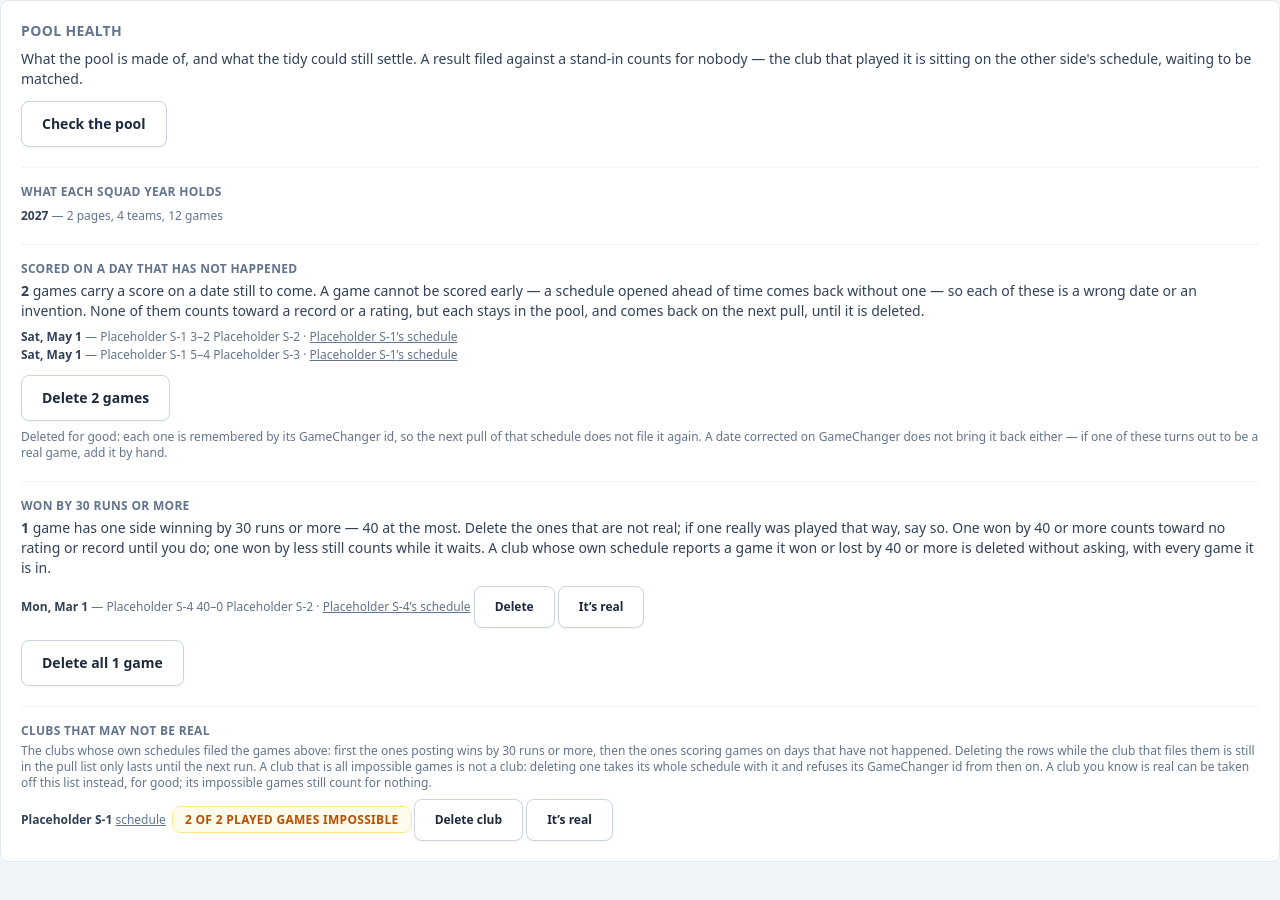
Test: Pool health's buttons, sent as edits › shows an answer kept at once, before what the pool shows comes back
Click the button "It’s real" in the row of "2 played games" at (570, 820), box [526, 799, 613, 841]
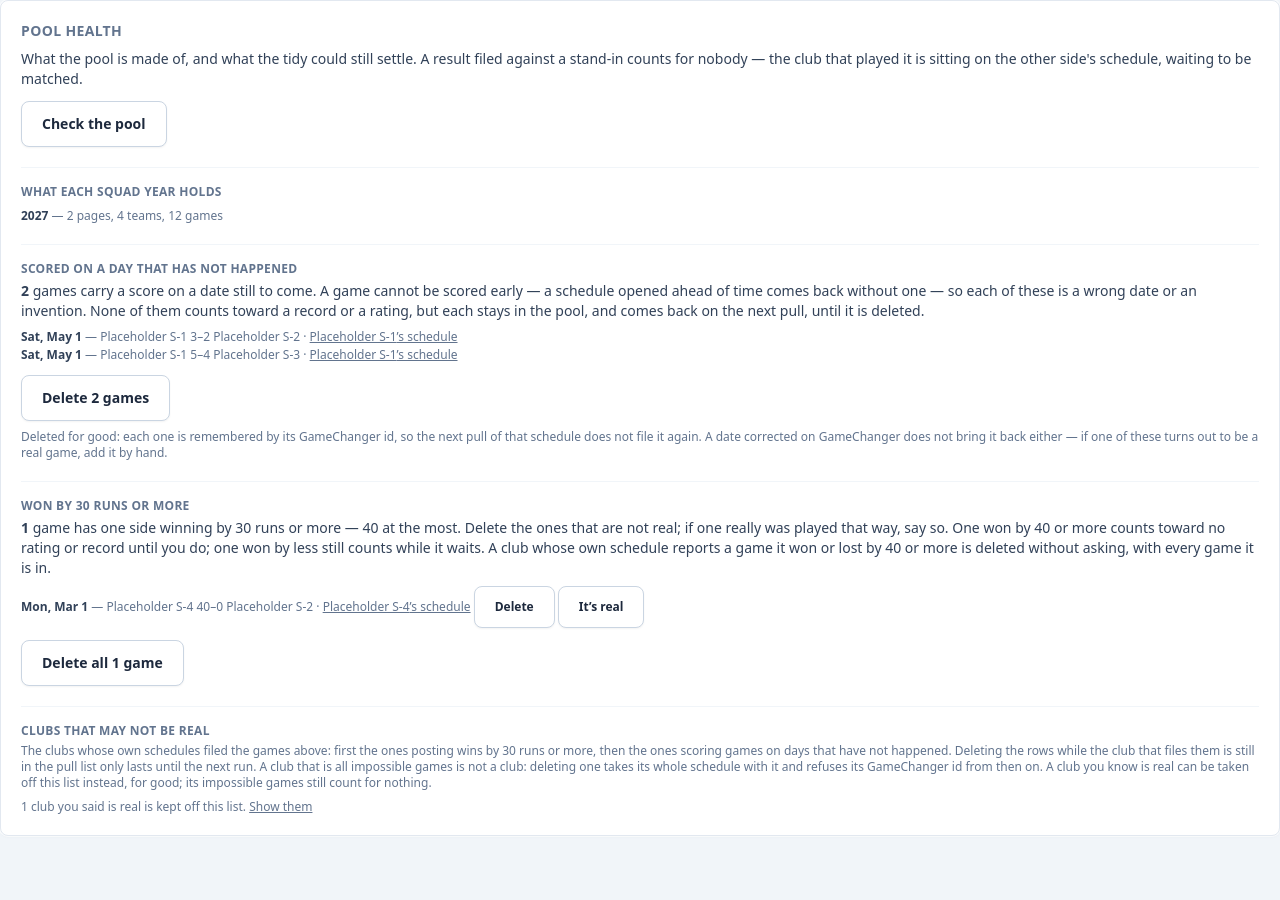
Expected: the text "1 club you said is real is kept off this list. Show them" is shown, [21, 798, 312, 815]
